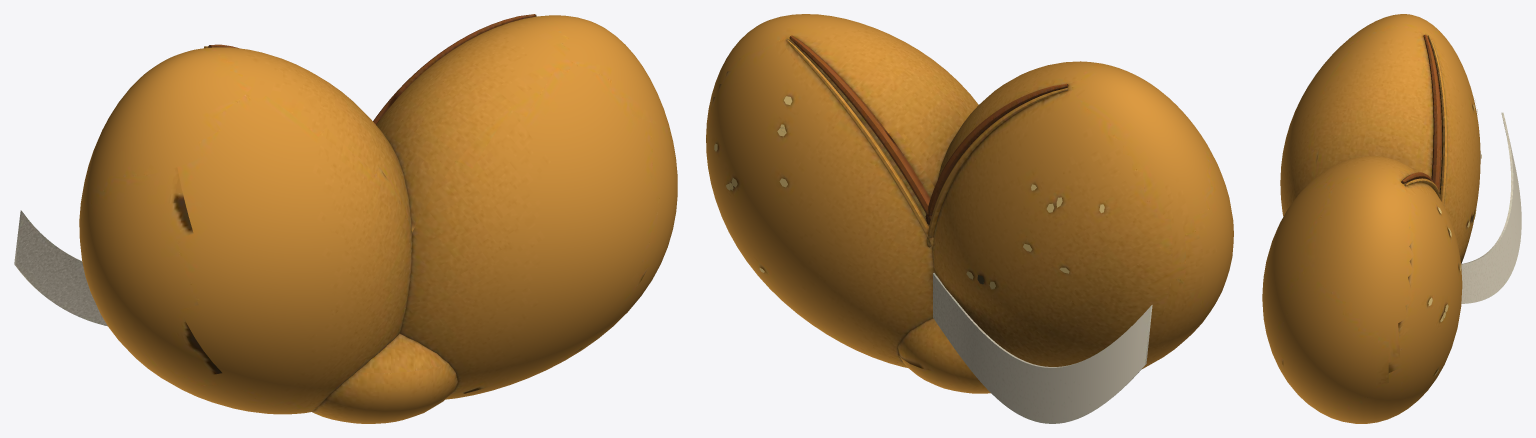
The picture shows the model from 3 angles, left to right: view 1: azimuth 30°, elevation 25°; view 2: azimuth 150°, elevation 25°; view 3: azimuth 270°, elevation 25°; orthographic projection. The views are drawn at different scales.
Visible parts, largest first — view 1: Honey_baked_cookie, anim_Blank_ivory_paper_0, Toasted_crease; view 2: Honey_baked_cookie, anim_Blank_ivory_paper_0, Toasted_crease, Fine_golden_leaf; view 3: Honey_baked_cookie, anim_Blank_ivory_paper_0, Toasted_crease.
Boxes of the visible parts, box(x1,y1,x2,y2) form: Honey_baked_cookie: box(79, 14, 677, 423); anim_Blank_ivory_paper_0: box(14, 210, 107, 326); Toasted_crease: box(208, 14, 535, 124); Honey_baked_cookie: box(706, 14, 1233, 393); anim_Blank_ivory_paper_0: box(933, 273, 1152, 423); Toasted_crease: box(789, 35, 1068, 224); Fine_golden_leaf: box(714, 96, 1104, 289); Honey_baked_cookie: box(1262, 14, 1480, 423); anim_Blank_ivory_paper_0: box(1461, 112, 1521, 303); Toasted_crease: box(1401, 34, 1441, 191).
Bounding box in the file's own units: 0.691 × 0.452 × 0.3539.
Materials: 4 (4 with a texture image).
